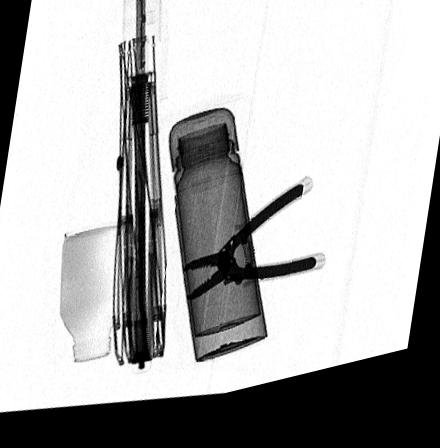Pliers: (179, 195, 316, 310)
